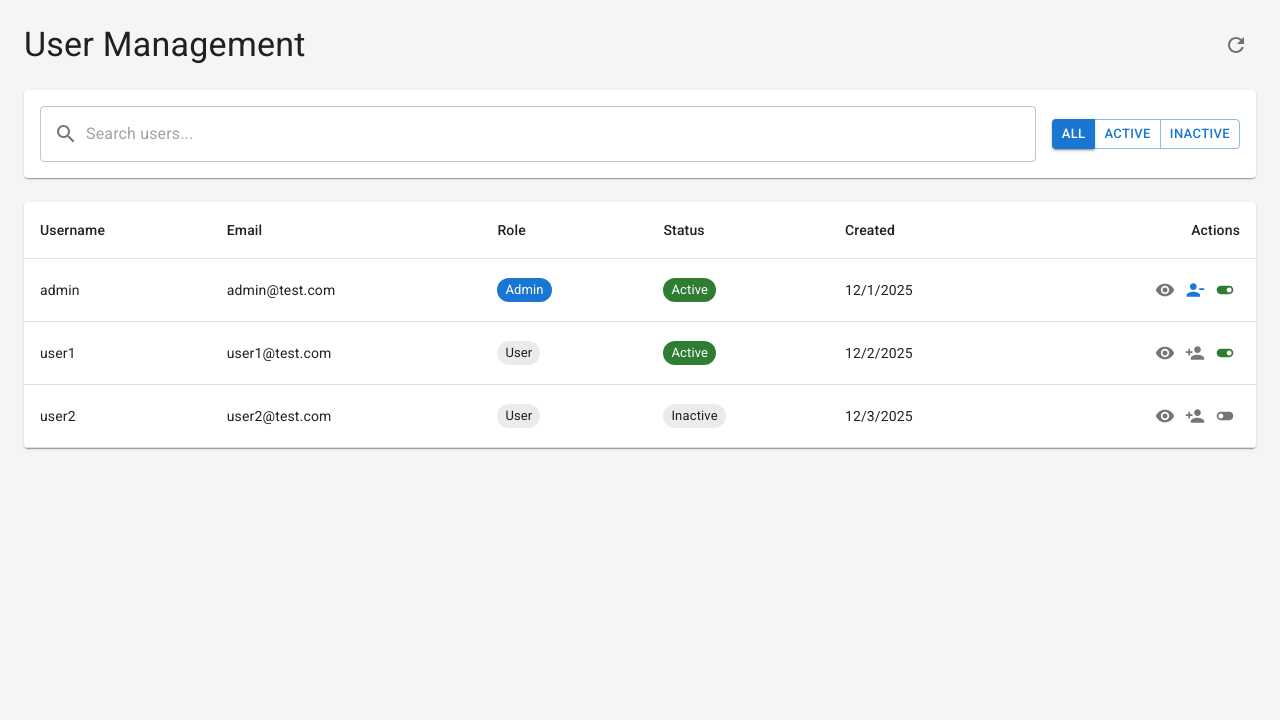
Scenario: UsersManagement Page - TDD (Rebuilt with Admin V1 API) › 6. User Devices Viewing › should show empty state when user has no devices
Expected: the text "user1" is shown, [24,322,211,384]
Open devices dialog
What coordinates should you click on to do the following:
click the button named "view devices" in the row of "user1@test.com"
I would click on:
 (1165, 353)
Its box is [1150,338,1180,368].
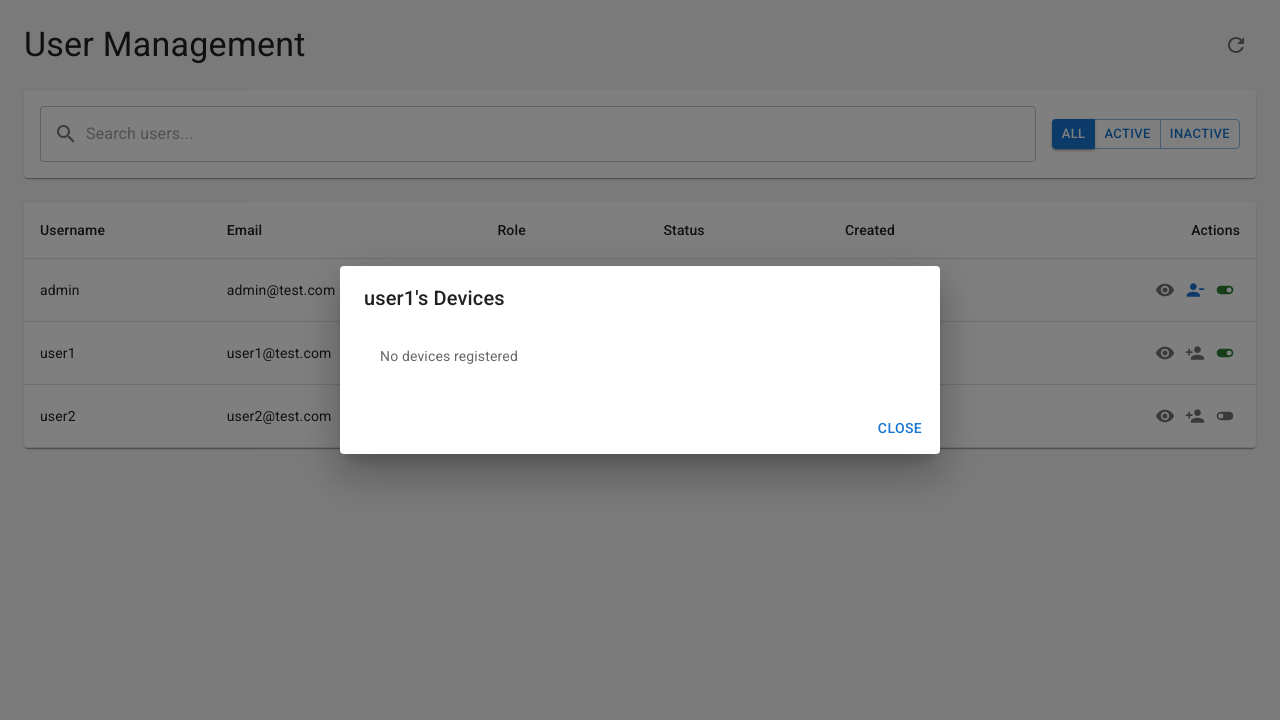
Now the text "No devices registered" is shown, box [380,348,518,364]
